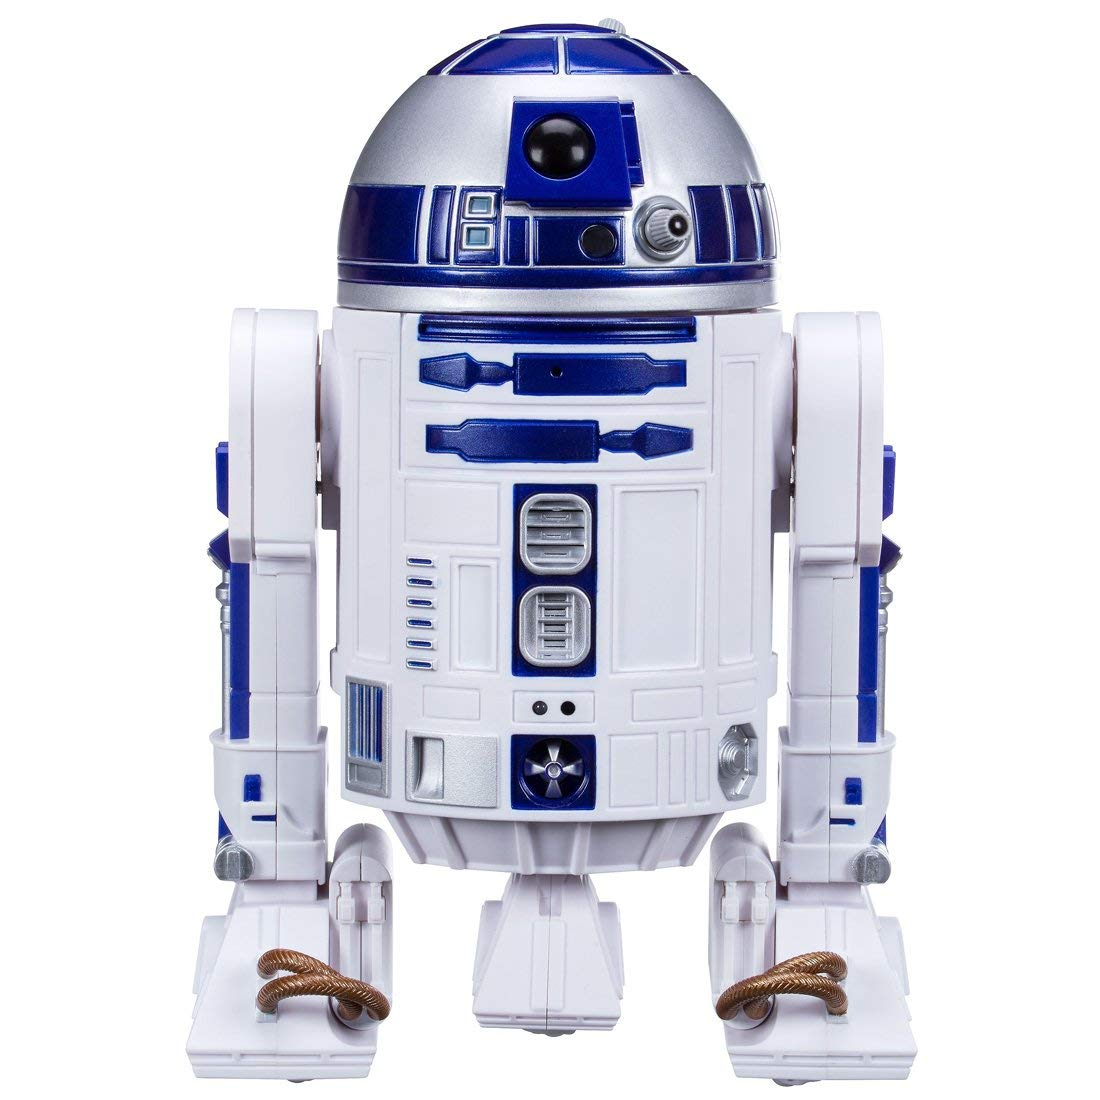r2d2: (188, 18, 919, 1083)
